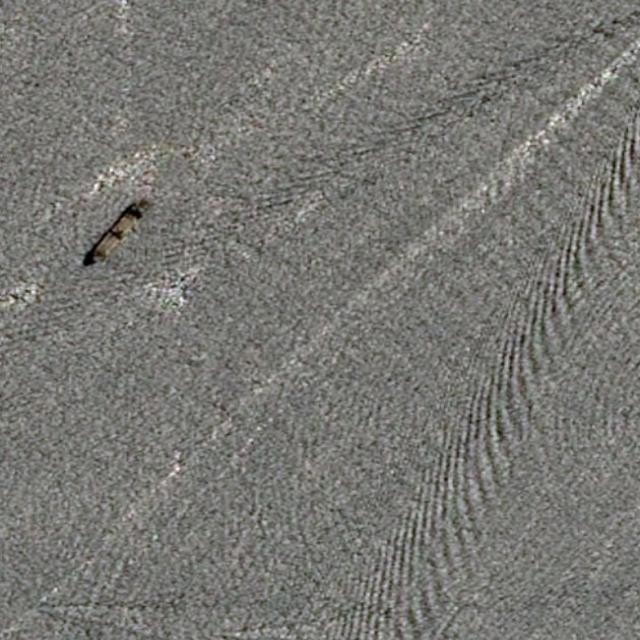Cargo: (79, 194, 158, 275)
